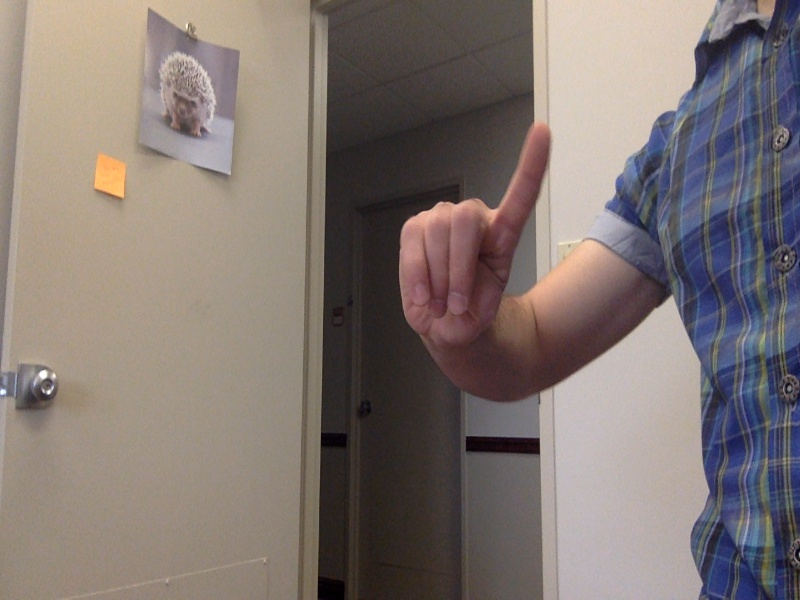1-hand: (395, 120, 553, 361)
